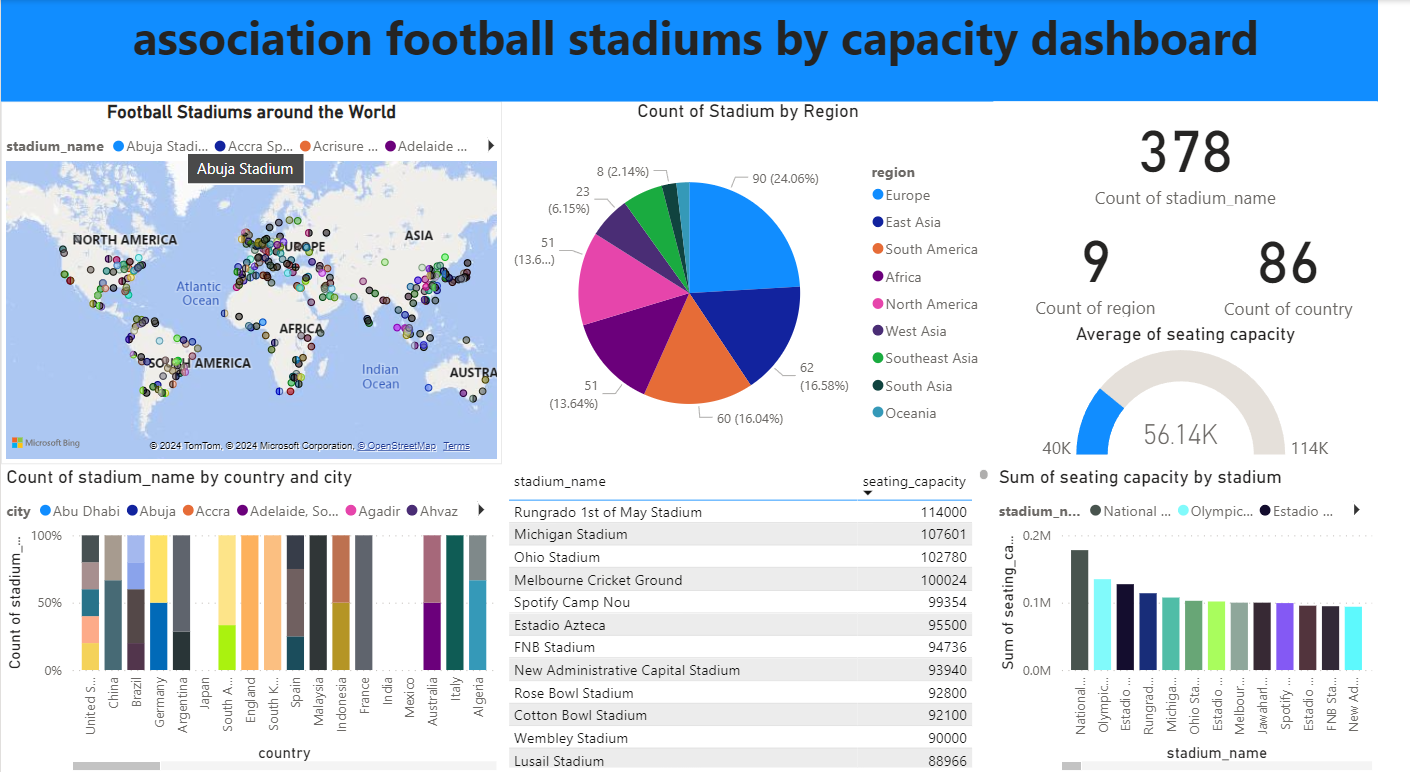

What the dashboard file says about the page in this screenshot:
{"tool":"powerbi","page":{"name":"Page 1","canvas":[1280,720],"ordinal":0},"visuals":[{"type":"map","title":"Football Stadiums around the World","fields":{"Category":["stadium_cleaned_2024-04-23_23_29_22 691526.coordinate"],"Series":["stadium_cleaned_2024-04-23_23_29_22 691526.stadium_name"]},"box":[0,94.3,465.7,337.1],"z":0},{"type":"pieChart","title":"Count of Stadium by Region","fields":{"Y":["Count(stadium_cleaned_2024-04-23_23_29_22 691526.stadium_name)"],"Category":["stadium_cleaned_2024-04-23_23_29_22 691526.region"]},"box":[465.7,92.9,457.1,338.6],"z":1000},{"type":"hundredPercentStackedColumnChart","fields":{"Series":["stadium_cleaned_2024-04-23_23_29_22 691526.city"],"Y":["CountNonNull(stadium_cleaned_2024-04-23_23_29_22 691526.stadium_name)"],"Category":["stadium_cleaned_2024-04-23_23_29_22 691526.country"]},"box":[0,432.9,465.7,287.1],"z":2000},{"type":"textbox","box":[0,0,1280,94.3],"z":3000},{"type":"card","fields":{"Values":["CountNonNull(stadium_cleaned_2024-04-23_23_29_22 691526.stadium_name)"]},"box":[922.9,94.3,357.1,101.4],"z":4000},{"type":"card","fields":{"Values":["Count(stadium_cleaned_2024-04-23_23_29_22 691526.region)"]},"box":[922.9,195.7,190,104.3],"z":5000},{"type":"card","fields":{"Values":["Count(stadium_cleaned_2024-04-23_23_29_22 691526.country)"]},"box":[1112.9,195.7,167.1,105.7],"z":6000},{"type":"gauge","title":"Average of seating capacity","fields":{"MinValue":["Min(stadium_cleaned_2024-04-23_23_29_22 691526.seating_capacity)"],"MaxValue":["Max(stadium_cleaned_2024-04-23_23_29_22 691526.seating_capacity)1"],"Y":["Avg(stadium_cleaned_2024-04-23_23_29_22 691526.seating_capacity)2"]},"box":[922.9,300,357.1,132.9],"z":7000},{"type":"tableEx","fields":{"Values":["stadium_cleaned_2024-04-23_23_29_22 691526.stadium_name","stadium_cleaned_2024-04-23_23_29_22 691526.seating_capacity"]},"box":[465.7,431.4,457.1,287.1],"z":7001},{"type":"columnChart","title":"Sum of seating capacity by stadium","fields":{"Series":["stadium_cleaned_2024-04-23_23_29_22 691526.stadium_name"],"Y":["Sum(stadium_cleaned_2024-04-23_23_29_22 691526.seating_capacity)"],"Category":["stadium_cleaned_2024-04-23_23_29_22 691526.stadium_name"]},"box":[922.9,432.9,357.1,287.1],"z":7002}]}

Visuals, with their boxes in screenshot pixels (x1, y1, x2, y2), scaled from the page's 1280x720 canvas onto the 1410x772 screenshot:
"Football Stadiums around the World" map: bbox=[0, 101, 513, 463]
"Count of Stadium by Region" pieChart: bbox=[513, 100, 1017, 463]
hundredPercentStackedColumnChart - stadium_cleaned_2024-04-23_23_29_22 691526.city x CountNonNull(stadium_cleaned_2024-04-23_23_29_22 691526.stadium_name): bbox=[0, 464, 513, 771]
textbox: bbox=[0, 0, 1409, 101]
card - CountNonNull(stadium_cleaned_2024-04-23_23_29_22 691526.stadium_name): bbox=[1017, 101, 1409, 210]
card - Count(stadium_cleaned_2024-04-23_23_29_22 691526.region): bbox=[1017, 210, 1226, 322]
card - Count(stadium_cleaned_2024-04-23_23_29_22 691526.country): bbox=[1226, 210, 1409, 323]
"Average of seating capacity" gauge: bbox=[1017, 322, 1409, 464]
tableEx - stadium_cleaned_2024-04-23_23_29_22 691526.stadium_name x stadium_cleaned_2024-04-23_23_29_22 691526.seating_capacity: bbox=[513, 463, 1017, 770]
"Sum of seating capacity by stadium" columnChart: bbox=[1017, 464, 1409, 771]
